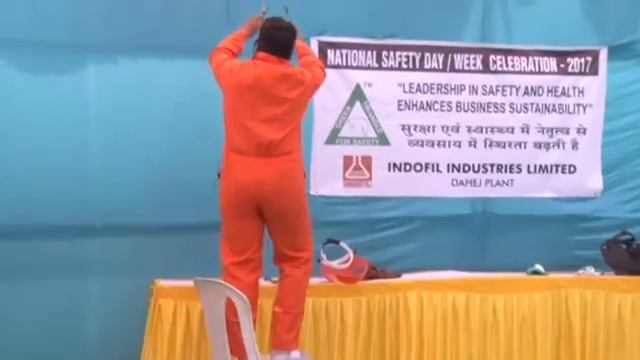helmet_off: (254, 15, 297, 63)
person: (209, 6, 327, 360)
